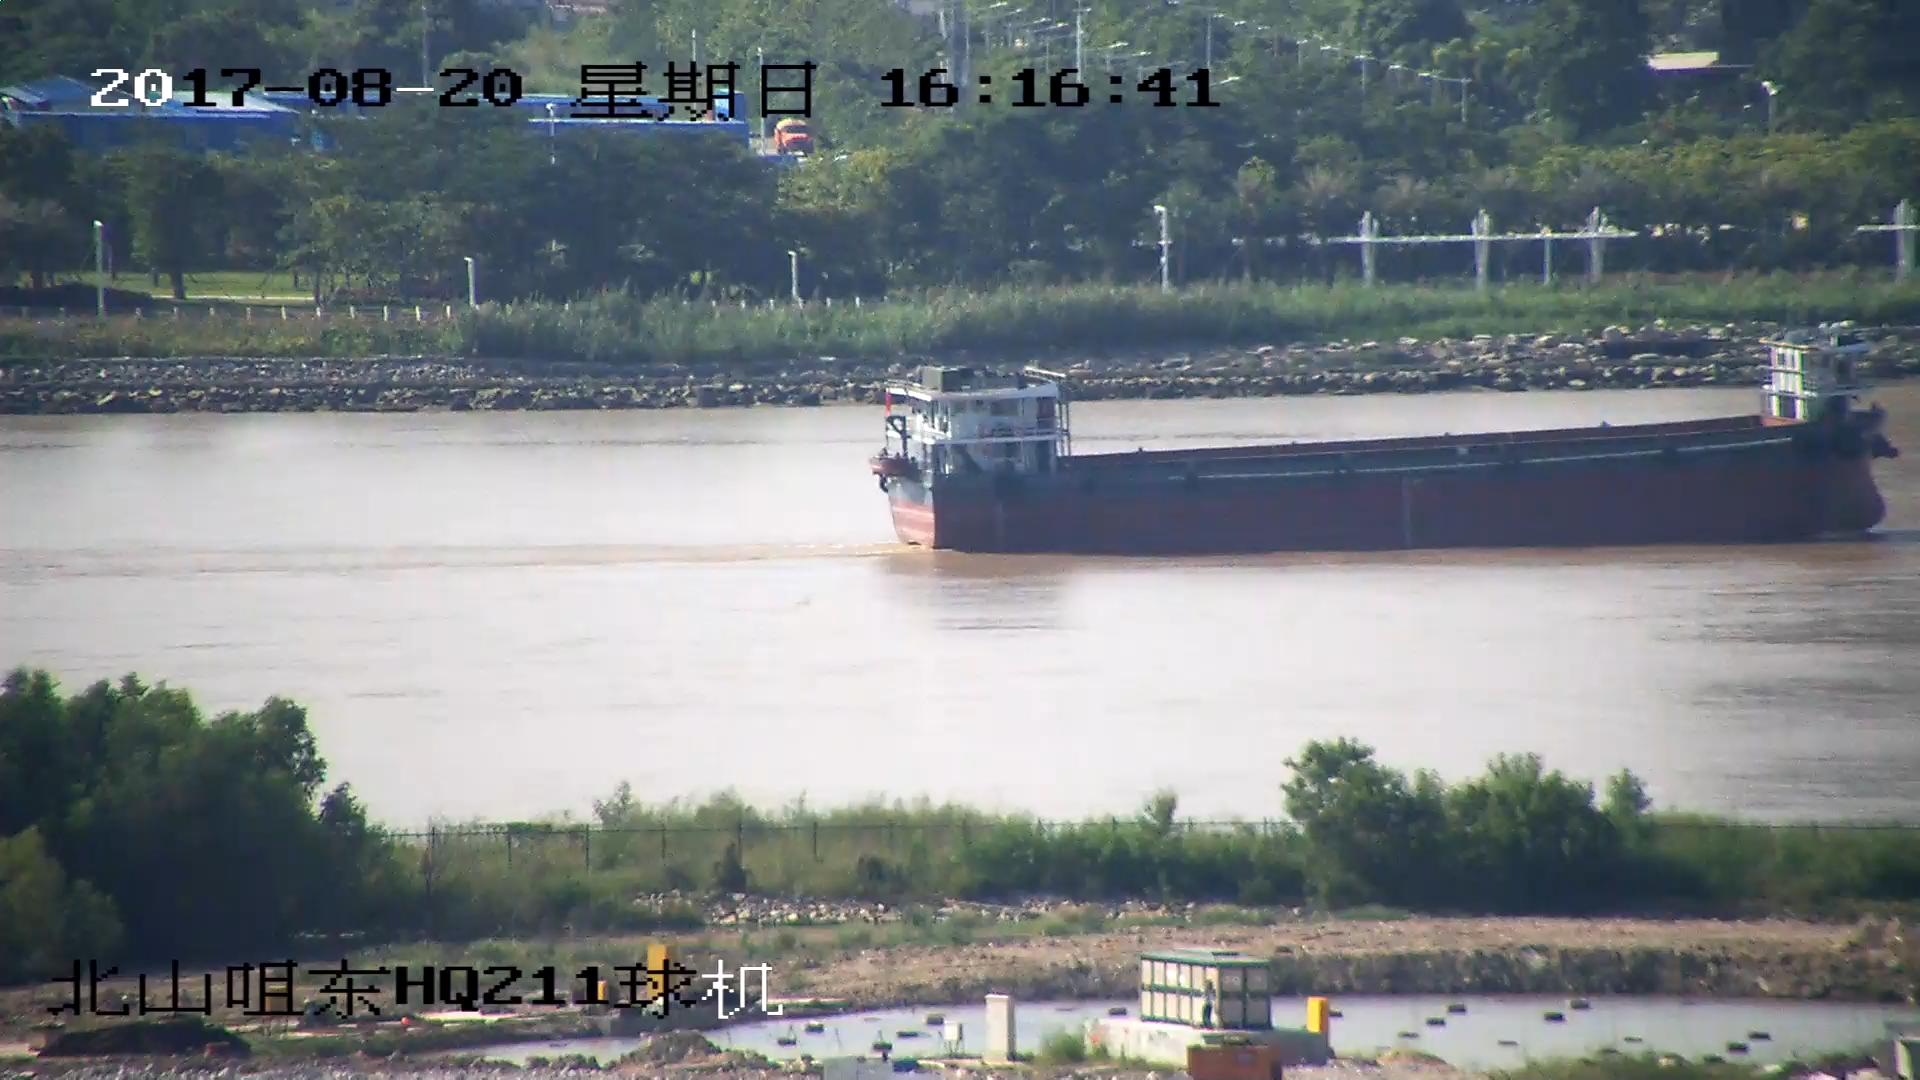general cargo ship: (881, 346, 1893, 558)
